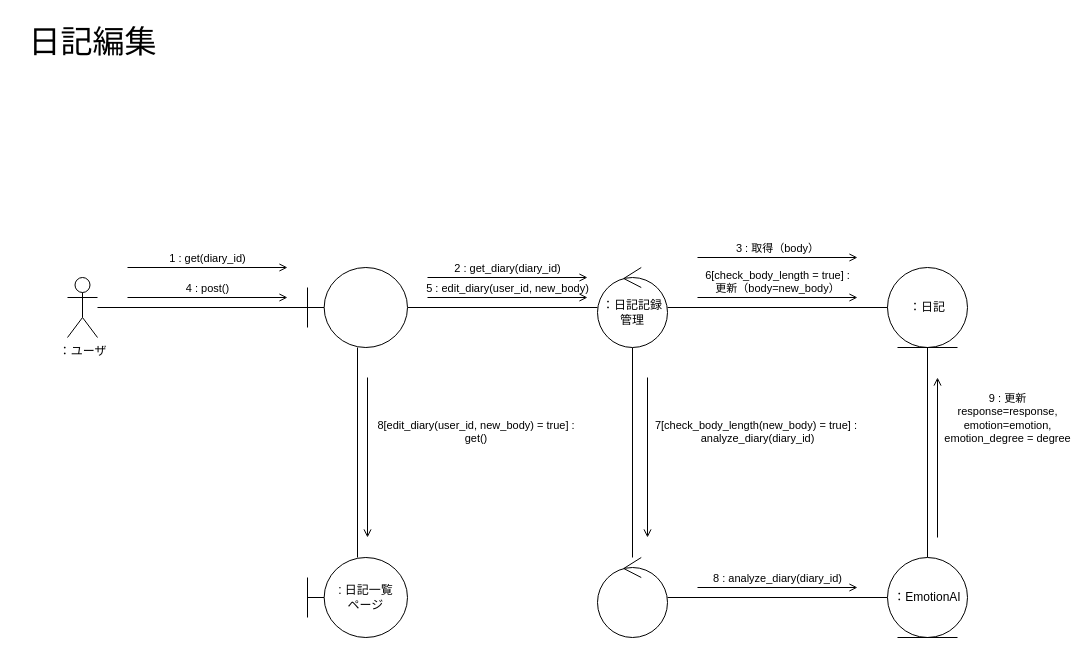
The diagram is 1087 pixels wide and 655 high, and some of its shapes have lost their labels. The shapes that lost their labels are listed below. From the top down, each one's centre as x and y in pixels, then its label:
the point at 357,307: : 日記編集 ページ
the point at 632,597: ：分析管理
